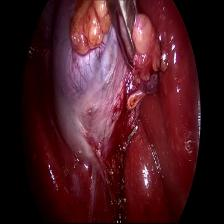Grasper: (104, 2, 144, 73)
